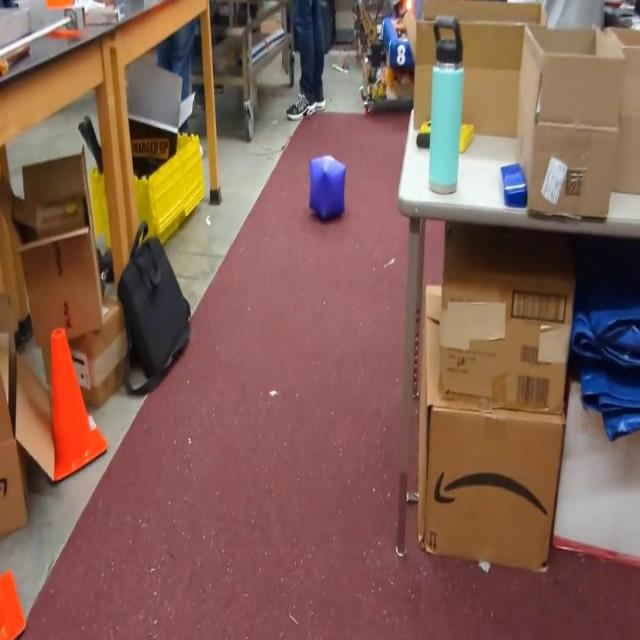frc_cube: (308, 153, 346, 223)
